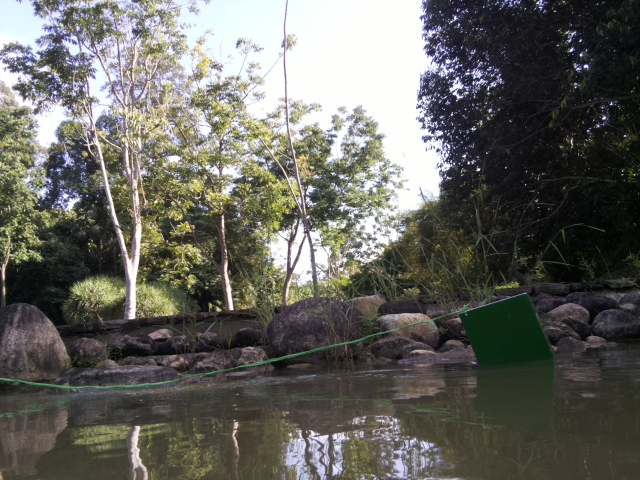obstacle: (460, 292, 557, 367)
